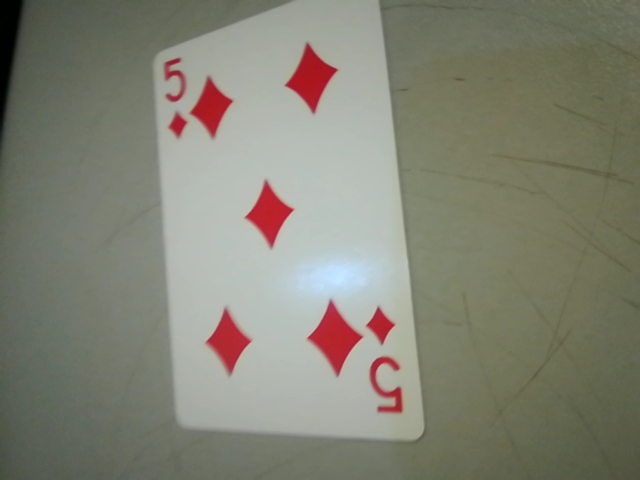fk 5: (356, 296, 416, 427)
